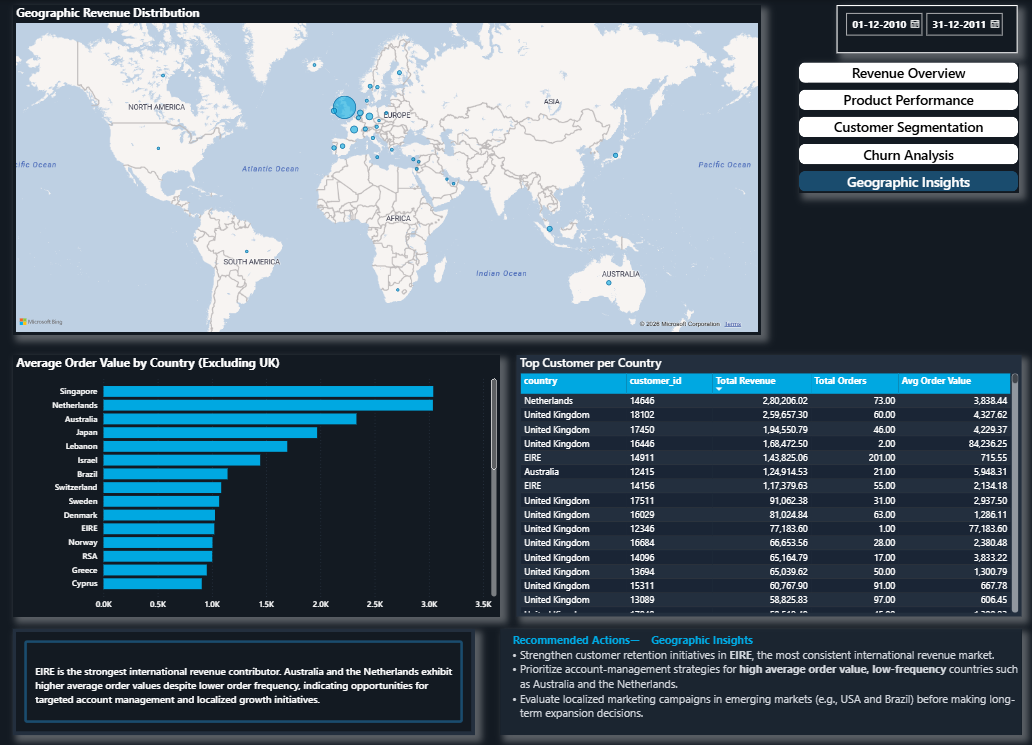

The dashboard page shown, as its layout file describes it:
{"tool":"powerbi","page":{"name":"Geographic Insights","canvas":[1540,1100],"ordinal":4},"visuals":[{"type":"slicer","fields":{"Values":["dim_date.date_id"]},"box":[1242,8,266.9,70.9],"z":0},{"type":"map","title":"Geographic Revenue Distribution","fields":{"Category":["dim_customers.country"],"Size":["fact_orders.Total Revenue"]},"box":[27.6,7.4,1104.1,486.6],"z":2000},{"type":"clusteredBarChart","title":"Average Order Value by Country (Excluding UK)","fields":{"Category":["dim_customers.country"],"Y":["fact_orders.Avg Order Value"]},"box":[27.6,523.5,718.8,385.2],"z":3000},{"type":"pageNavigator","box":[1187.6,91.5,323.7,191.8],"z":6000},{"type":"textbox","box":[746.5,927.1,768.6,156.7],"z":10000},{"type":"tableEx","title":"Top Customer per Country","fields":{"Values":["dim_customers.country","dim_customers.customer_id","fact_orders.Total Revenue","fact_orders.Total Orders","fact_orders.Avg Order Value"]},"box":[770.4,523.5,744.6,385.2],"z":10001},{"type":"cardVisual","fields":{"Data":["fact_orders.Geo Insight Text"]},"box":[27.6,927.1,682,156.7],"z":10002}]}

Visuals, with their boxes in screenshot pixels (x1, y1, x2, y2), scaled from the page's 1540x1100 canvas onto the 1032x745 screenshot:
slicer - dim_date.date_id: 832 5 1011 53
"Geographic Revenue Distribution" map: 18 5 758 335
"Average Order Value by Country (Excluding UK)" clusteredBarChart: 18 355 500 615
pageNavigator: 796 62 1013 192
textbox: 500 628 1015 734
"Top Customer per Country" tableEx: 516 355 1015 615
cardVisual - fact_orders.Geo Insight Text: 18 628 476 734
